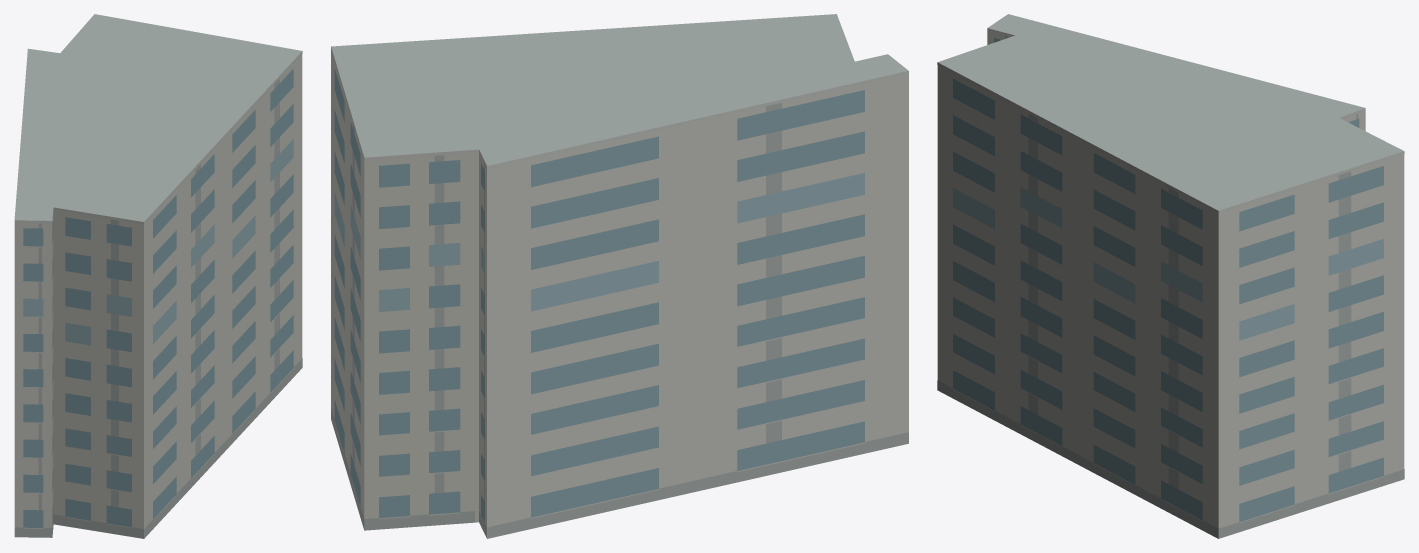
File: survey-upis-32965412.glb
3 views of the same model, side by side, from view 1: azimuth 30°, elevation 25°; view 2: azimuth 150°, elevation 25°; view 3: azimuth 270°, elevation 25° (orthographic). The views are drawn at different scales.
Visible parts, largest first — view 1: survey-upis-32965412.tmp; view 2: survey-upis-32965412.tmp; view 3: survey-upis-32965412.tmp.
Boxes of the visible parts, x1=… form: survey-upis-32965412.tmp: x1=14, y1=14, x2=302, y2=538; survey-upis-32965412.tmp: x1=331, y1=14, x2=908, y2=538; survey-upis-32965412.tmp: x1=937, y1=14, x2=1404, y2=538.
Bounding box in the file's own units: 35.32 × 27.45 × 35.41.
